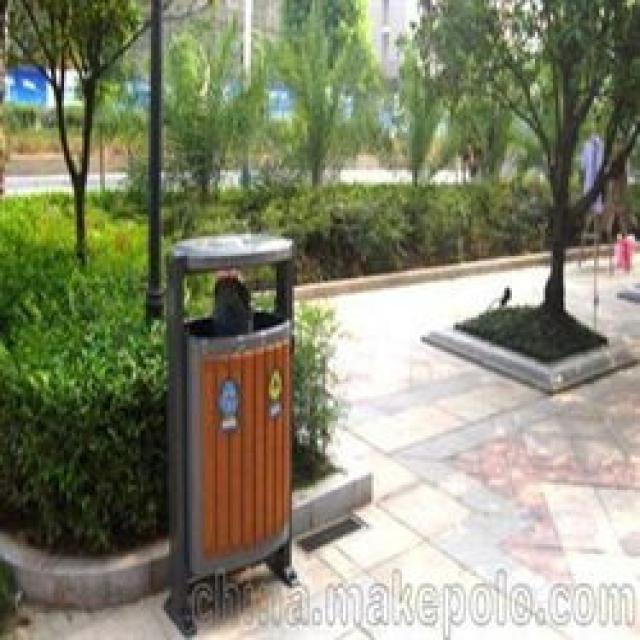garbage_bin: (162, 232, 294, 638)
